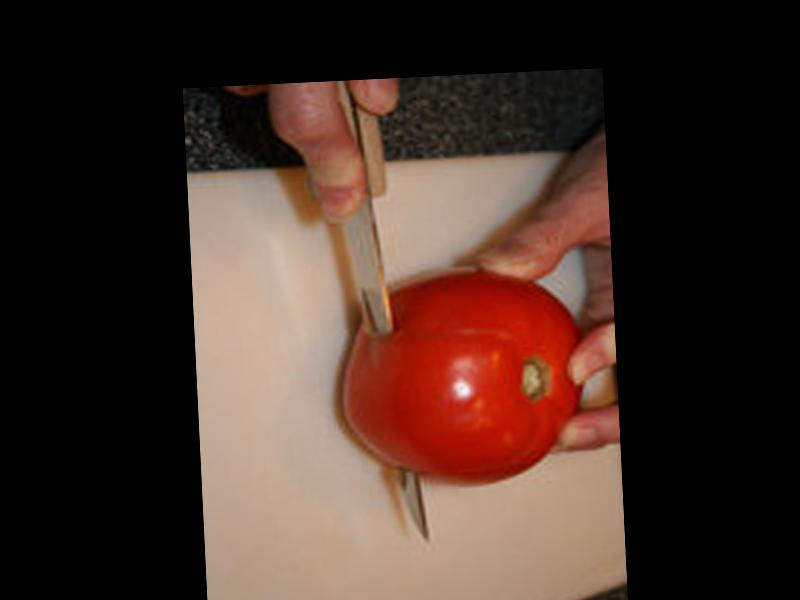Tomato: (337, 266, 589, 493)
